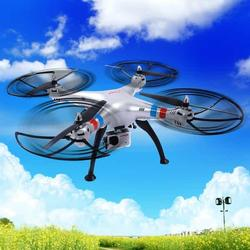drone: (6, 61, 246, 182)
